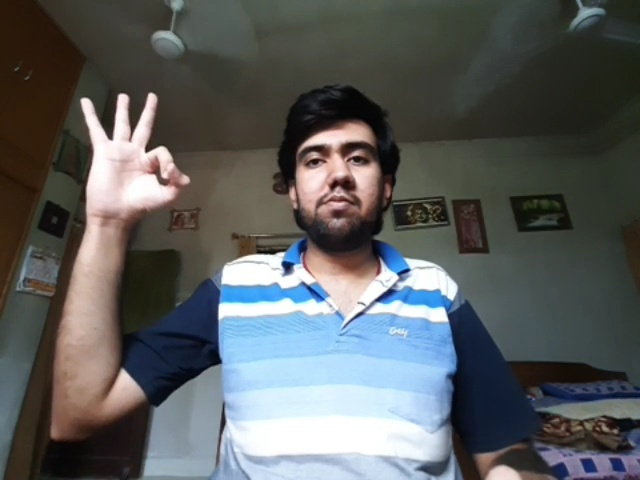Nice: (79, 92, 191, 218)
